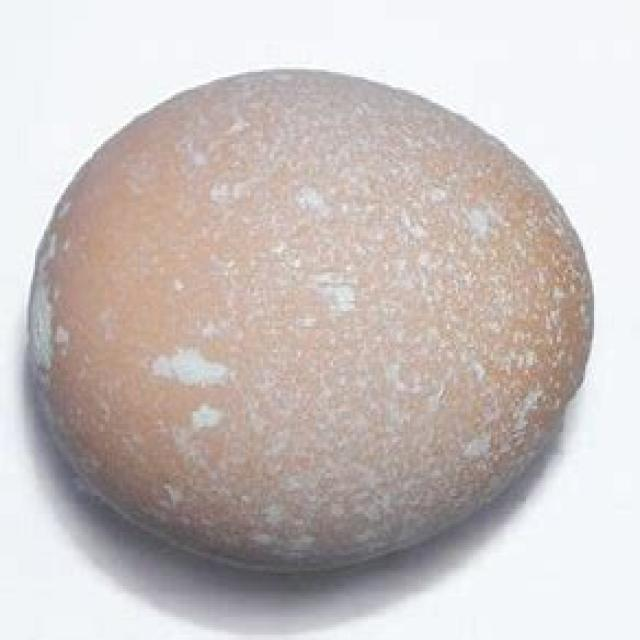Calcium Deposit Egg: (6, 57, 599, 597)
